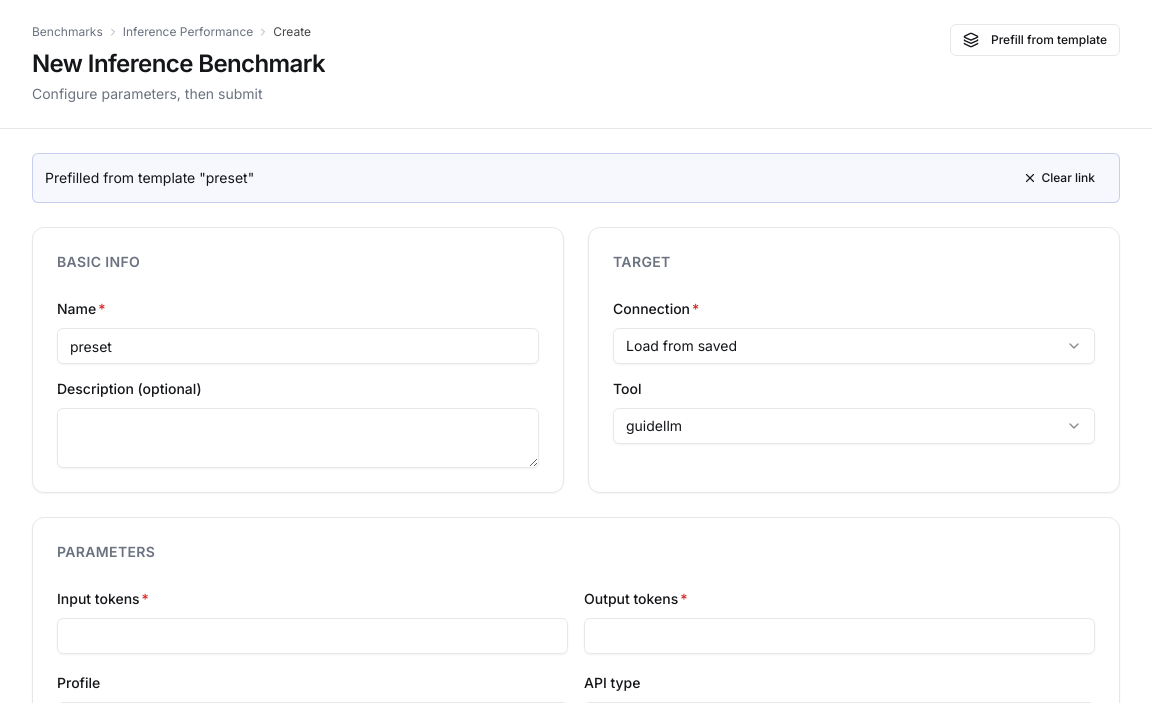
Test: BenchmarkCreatePage › clear-link button strips templateId but keeps params
The width and height of the screenshot is (1152, 703).
Expected: the text "Prefilled from template \"preset\"" is shown, left=45, top=168, right=254, bottom=188
Click the button "Clear link" at (1059, 178), box left=1011, top=162, right=1107, bottom=194
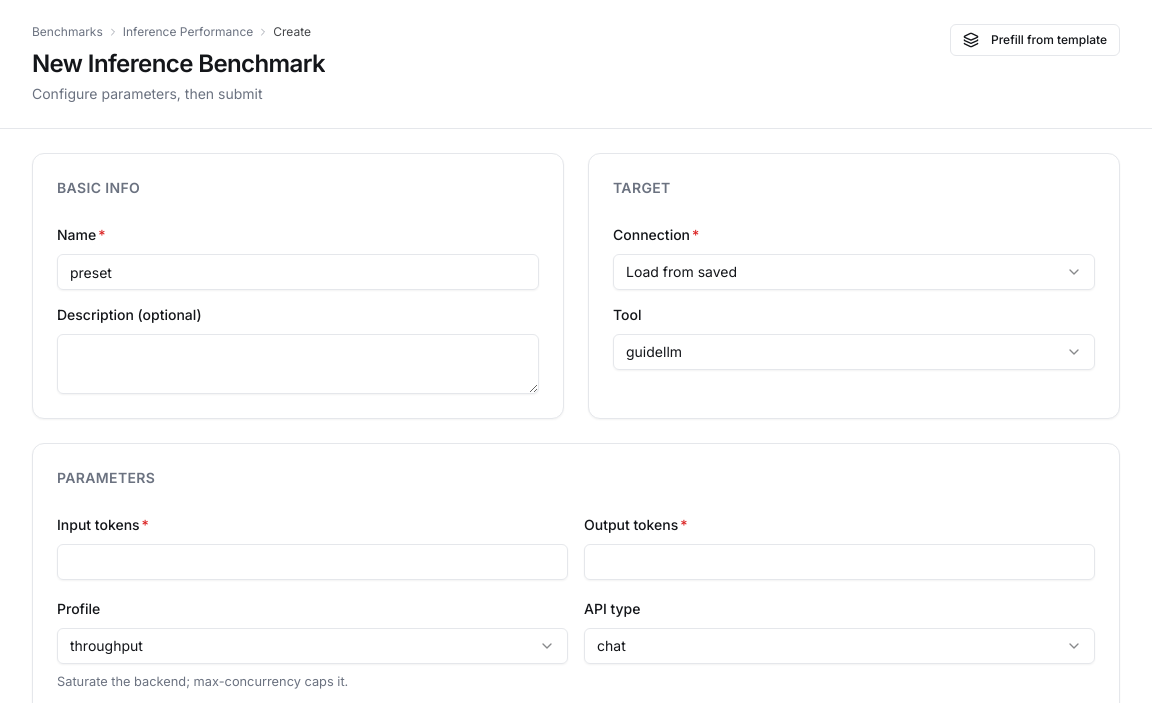
Expected: the field labelled "Name*" holds "preset", left=57, top=254, right=539, bottom=290
Expected: the text "Prefilled from template \"preset\"" is gone
